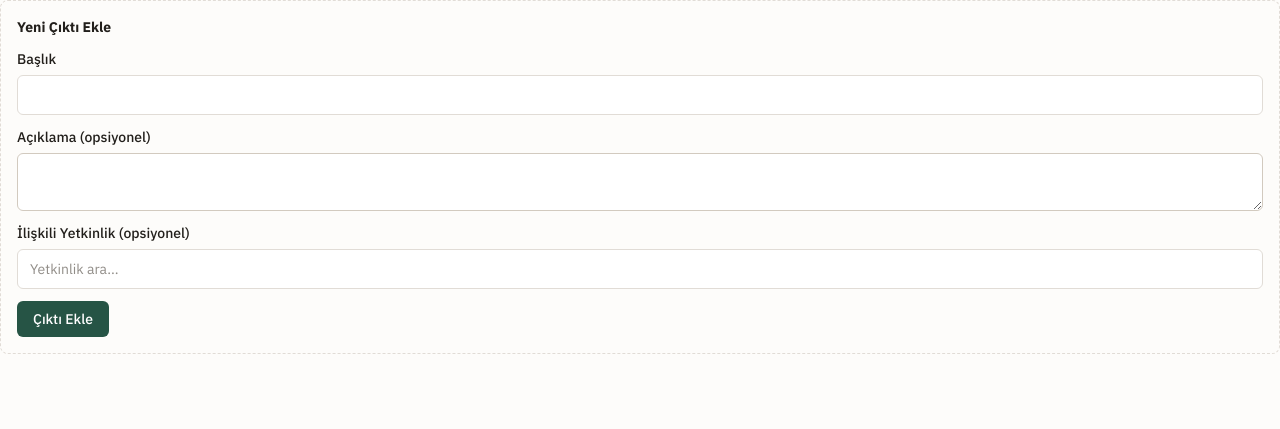
Test case: DeliverableForm › 422 INVALID_REQUEST → geçersiz yetkinlik mesajı gösterilir
Type "x" into the field labelled "Başlık" at (640, 95), box x1=17 y1=75 x2=1263 y2=115
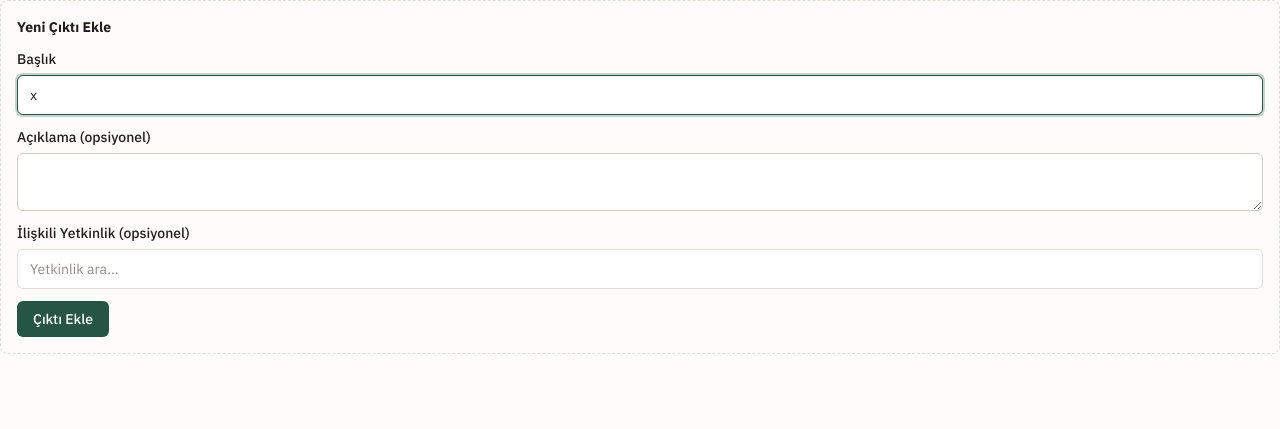
Click the button "Çıktı Ekle" at (63, 319), box x1=17 y1=301 x2=109 y2=337
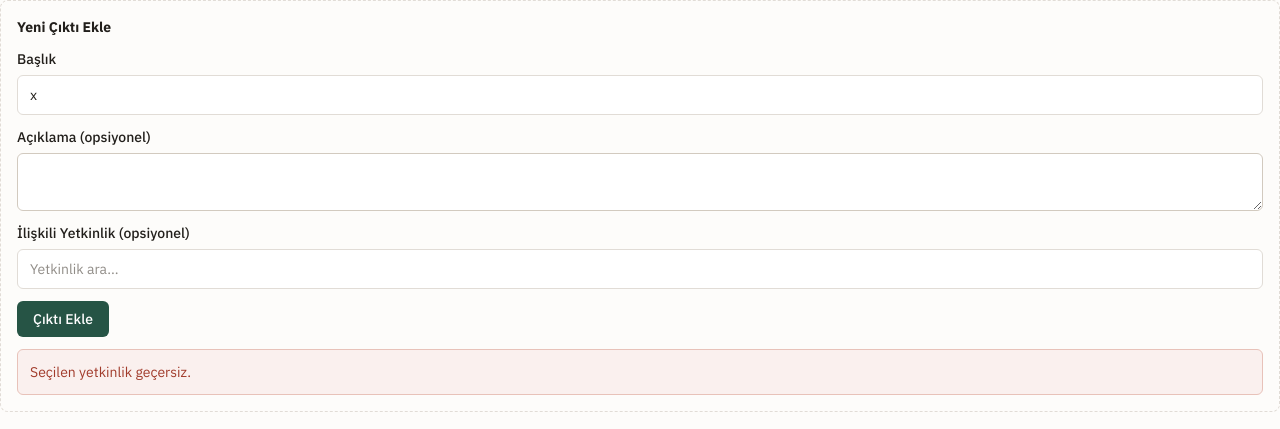
expect the text "Seçilen yetkinlik geçersiz." is shown: met, box x1=17 y1=349 x2=1263 y2=395
